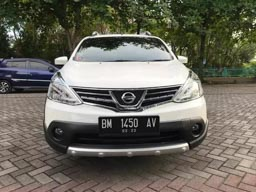plat: (100, 118, 159, 129)
